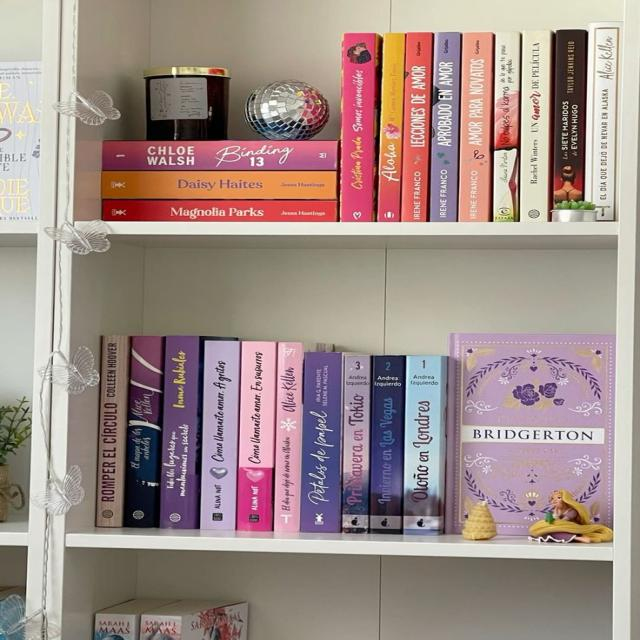book: (159, 335, 205, 529), (340, 33, 381, 221), (124, 336, 164, 528), (237, 341, 277, 531), (200, 340, 239, 530), (300, 352, 341, 532), (584, 23, 619, 221), (457, 33, 493, 221), (100, 170, 332, 197), (429, 32, 462, 221), (369, 356, 404, 534), (519, 31, 551, 222), (96, 336, 128, 527), (553, 29, 587, 208), (406, 356, 440, 534), (104, 144, 343, 168), (401, 33, 431, 221), (274, 343, 303, 532), (492, 32, 519, 222), (377, 33, 404, 221), (342, 354, 370, 532), (101, 201, 338, 222)
candle: (145, 67, 230, 139)
